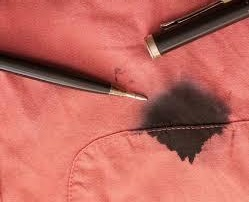ink: (148, 92, 225, 159)
